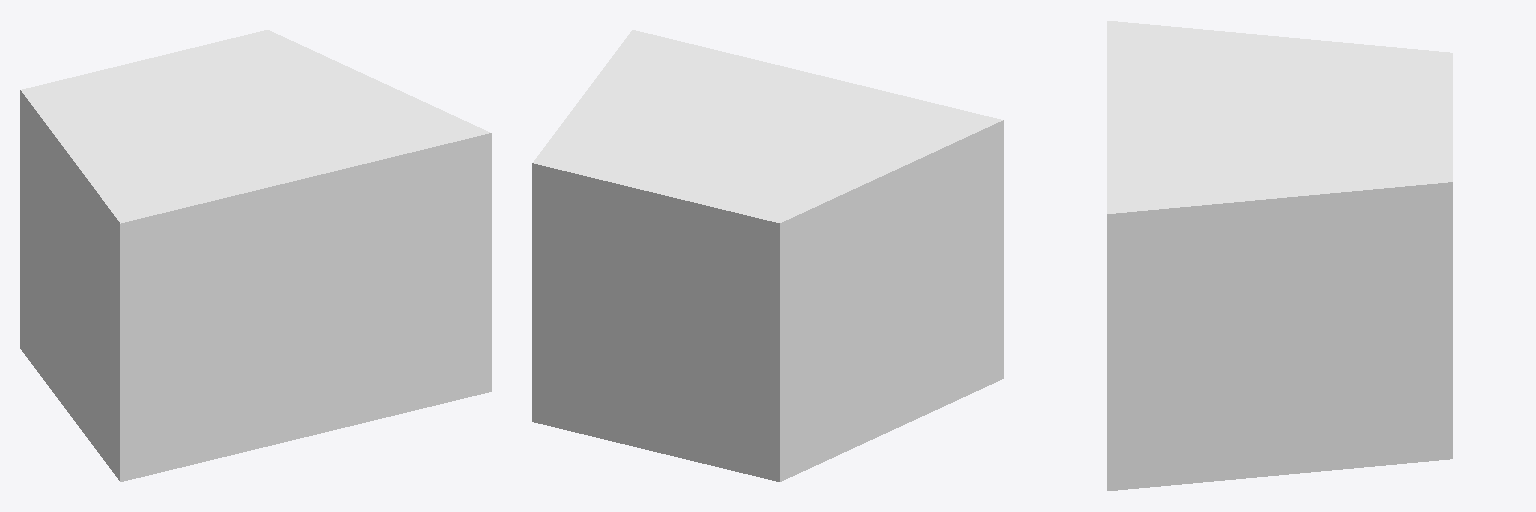
robot.urdf — trapezoid.SLDPRT:
<?xml version="1.0" encoding="utf-8"?>
<!-- This URDF was automatically created by SolidWorks to URDF Exporter! Originally created by [author] ([email redacted]) 
     Commit Version: 1.5.1-0-g916b5db  Build Version: 1.5.7152.31018
     For more information, please see http://wiki.ros.org/sw_urdf_exporter -->
<robot
  name="trapezoid.SLDPRT">
  <link
    name="trapezoid">
    <inertial>
      <origin
        xyz="4.5168E-18 -0.0011333 0.015"
        rpy="0 0 0" />
      <mass
        value="0.32513" />
      <inertia
        ixx="5.5287E-05"
        ixy="1.2208E-20"
        ixz="-2.7853E-21"
        iyy="6.4009E-05"
        iyz="9.43859210710713E-22"
        izz="7.0527E-05" />
    </inertial>
    <visual>
      <origin
        xyz="0 0 0"
        rpy="1.5707963267949 0 0" />
      <geometry>
        <mesh
          filename="package://trapezoid/meshes/trapezoid.STL" />
      </geometry>
      <material
        name="">
        <color
          rgba="1 1 1 1" />
        <texture
          filename="package://trapezoid/textures/" />
      </material>
    </visual>
    <collision>
      <origin
        xyz="0 0 0"
        rpy="1.5707963267949 0 0" />
      <geometry>
        <mesh
          filename="package://trapezoid/meshes/trapezoid.STL" />
      </geometry>
    </collision>
  </link>
</robot>

--- Facts derived from the render (not from the file) ---
The picture shows the robot from 3 angles, left to right: view 1: azimuth 30°, elevation 25°; view 2: azimuth 150°, elevation 25°; view 3: azimuth 270°, elevation 25°; orthographic projection.
Robot: trapezoid.SLDPRT — 1 links, 0 joints (none); root link trapezoid; default pose: every joint at zero.
Links seen in each view (by area): view 1: trapezoid; view 2: trapezoid; view 3: trapezoid.
Link boxes in pixels (<box>): trapezoid: <box>20,30,491,481</box>; trapezoid: <box>532,30,1003,481</box>; trapezoid: <box>1107,21,1452,490</box>.
Size in the robot's own frame: 0.045 by 0.034 by 0.03 metres.
1 mesh visuals loaded from 1 distinct referenced files (1 binary STL).